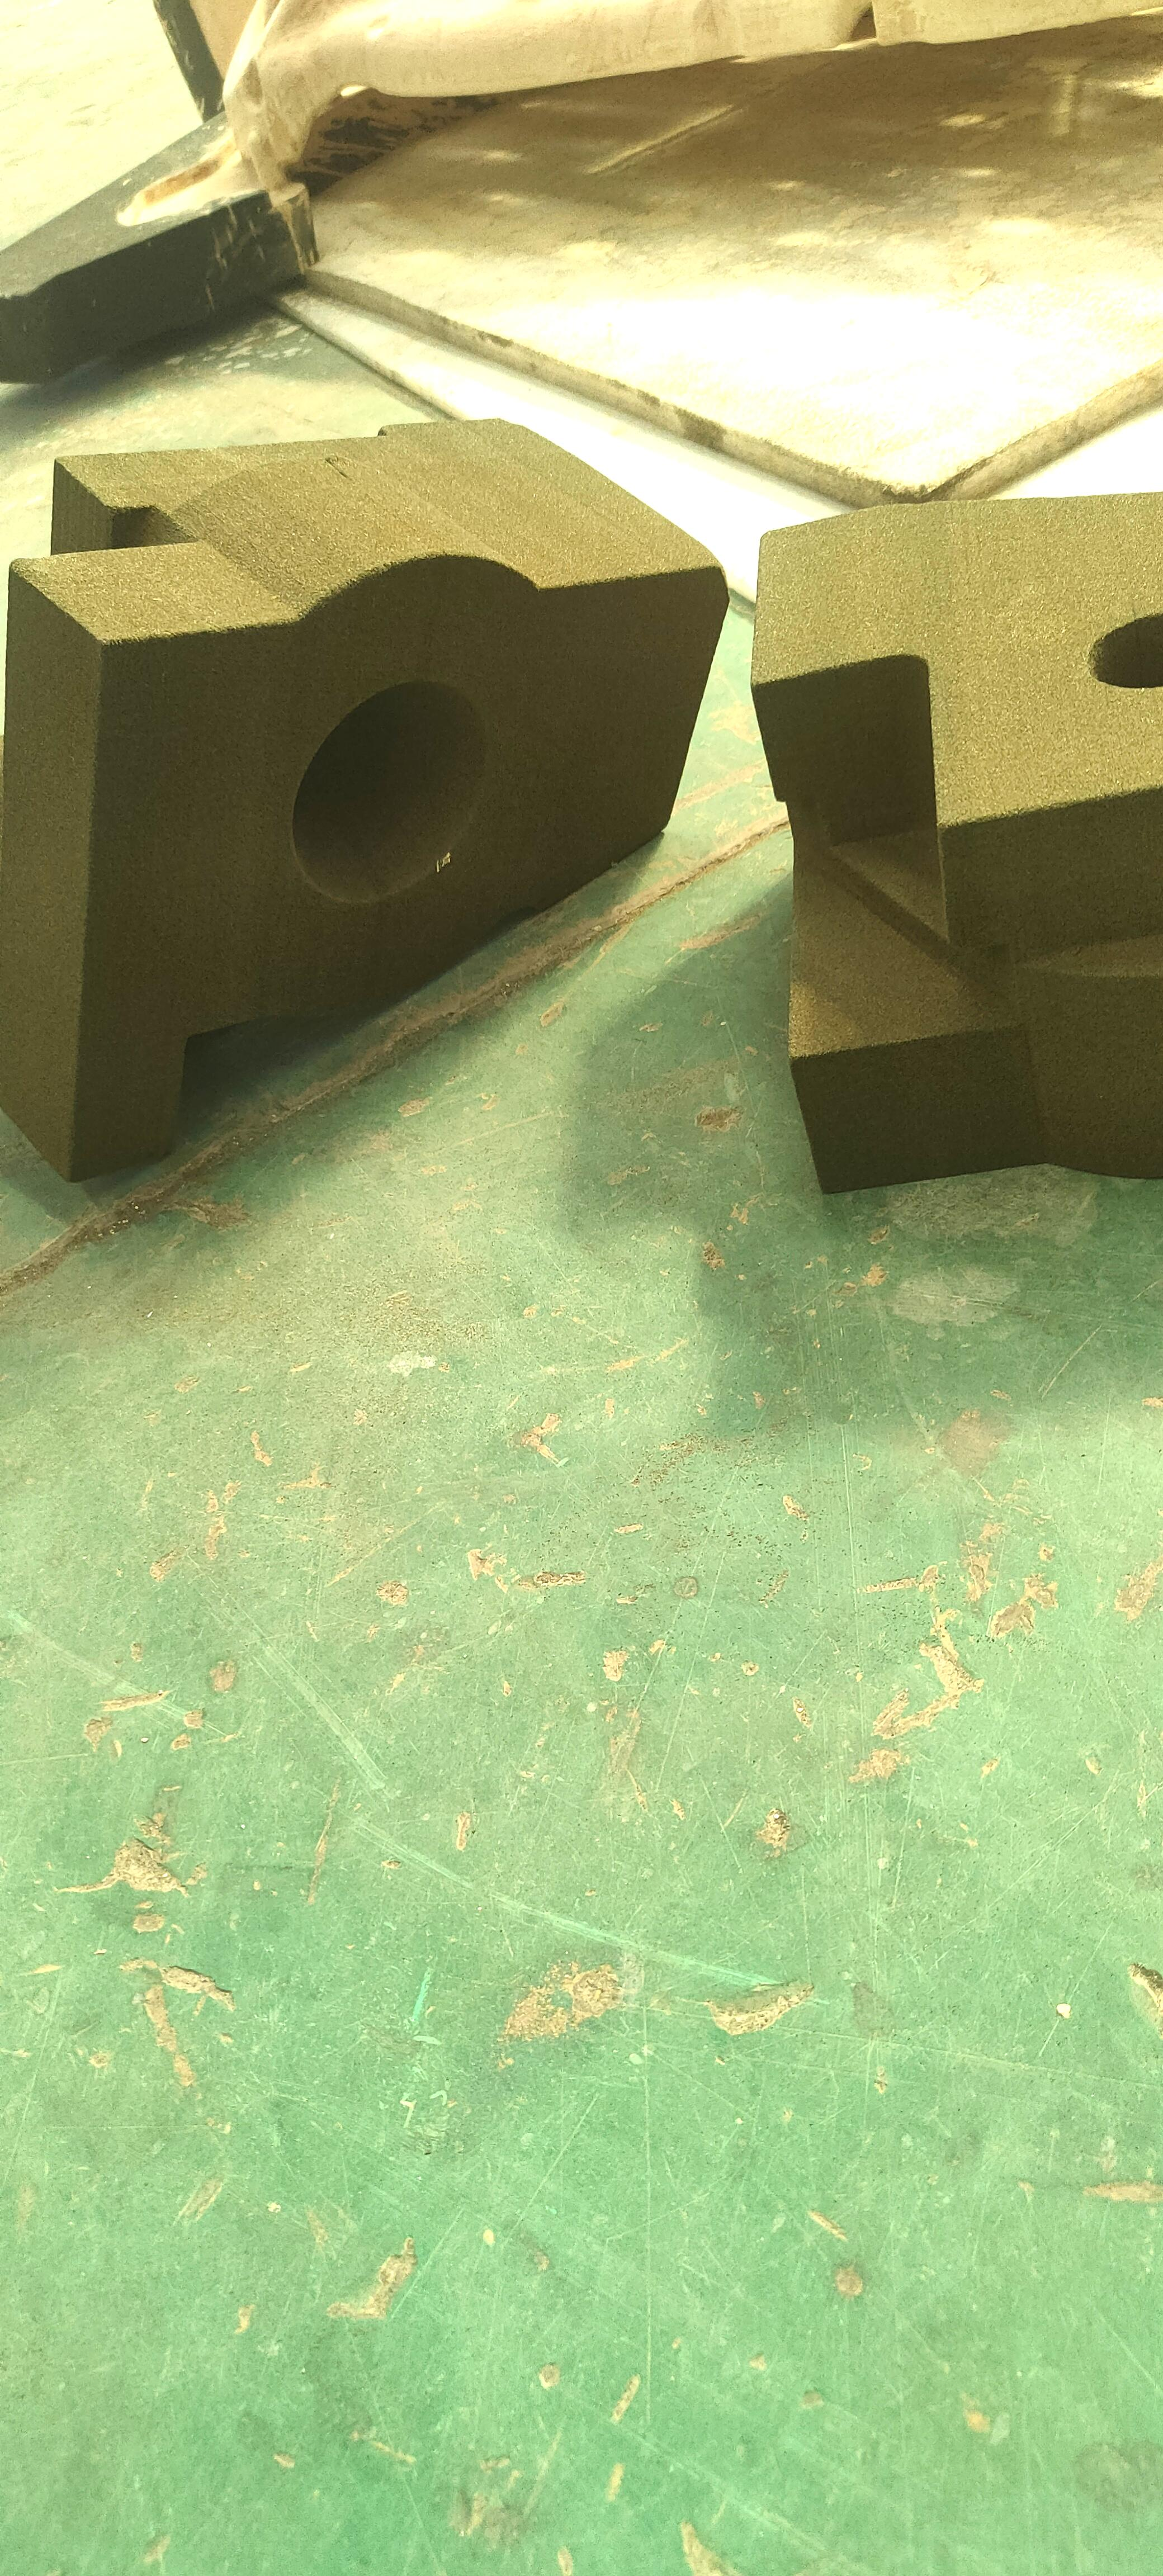pouring hole: (291, 680, 486, 904)
